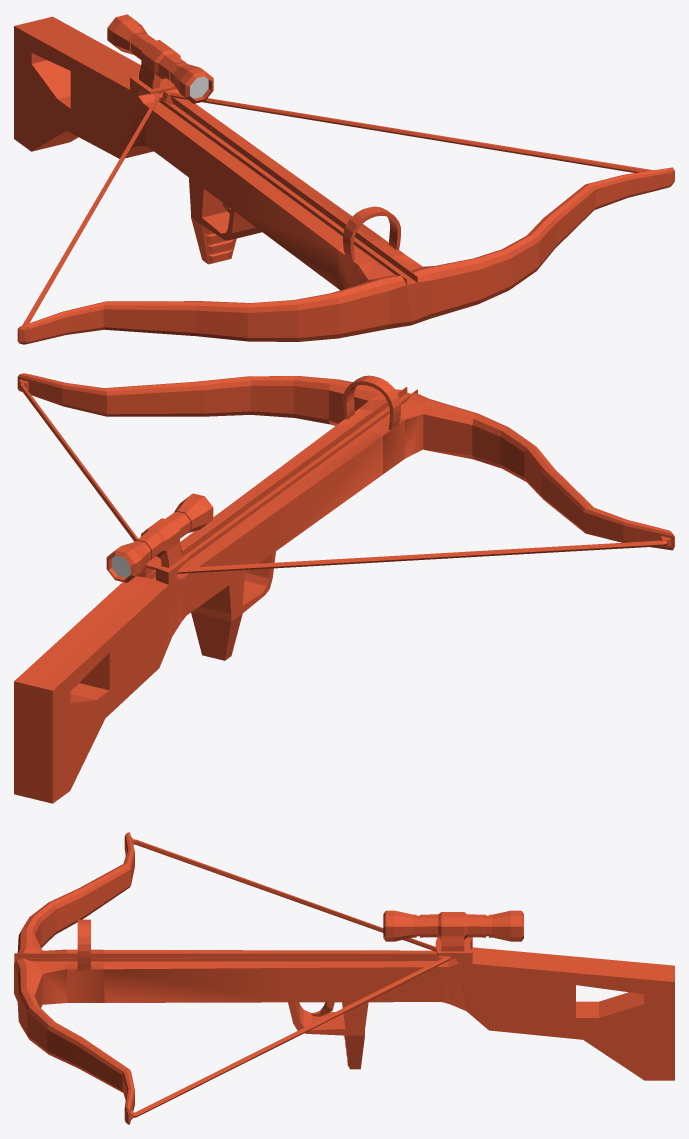
File: crossbow.fbx
3 renders of one model, top to bottom at view 1: azimuth 30°, elevation 25°; view 2: azimuth 150°, elevation 25°; view 3: azimuth 270°, elevation 25°, orthographic. The views are drawn at different scales.
Visible parts, largest first — view 1: Cylinder.002; view 2: Cylinder.002; view 3: Cylinder.002.
Part boxes in pixels (x1,y1,x2,y2): Cylinder.002: (14,14,674,344); Cylinder.002: (14,373,674,803); Cylinder.002: (14,832,674,1124).
Bounding box in the file's own units: 1 × 0.2661 × 1.
